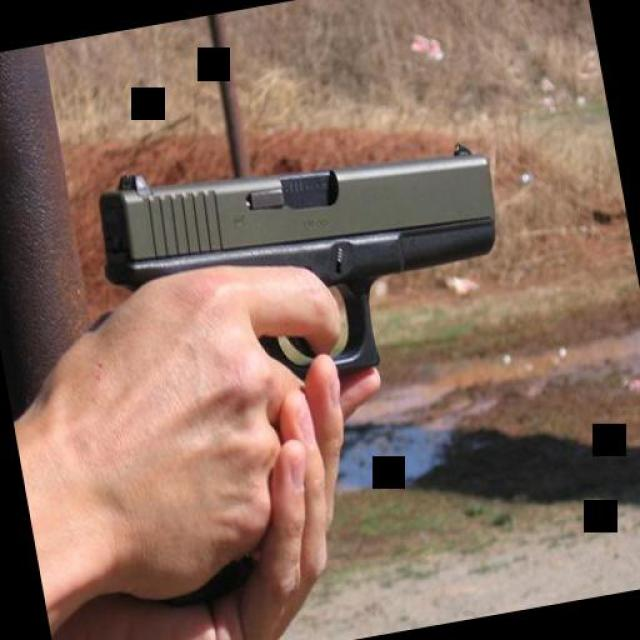gun: (70, 106, 558, 614)
